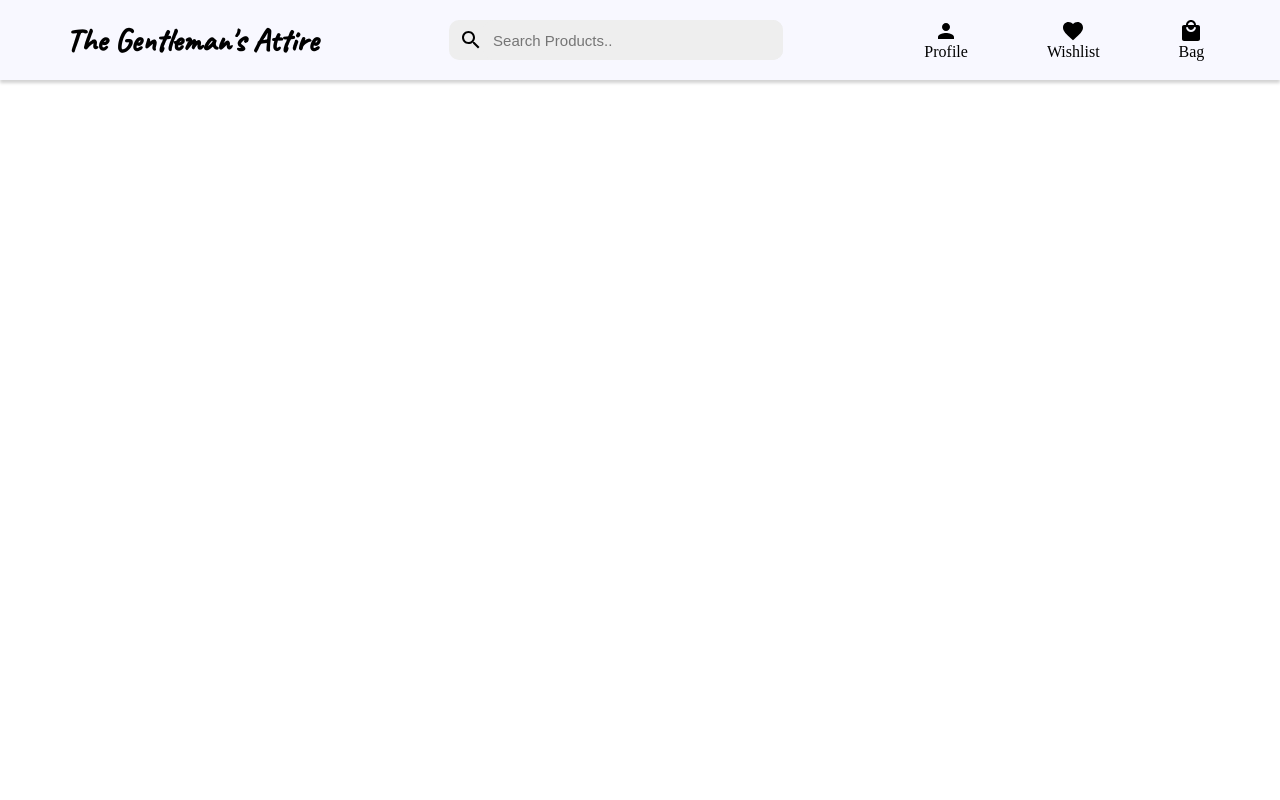
Test: Wishlist › If the user in logged out Wishlist login page is showing
Step 1. Click the link with test id "wishlistElement" → (1073,40), box [1047,19,1100,61]
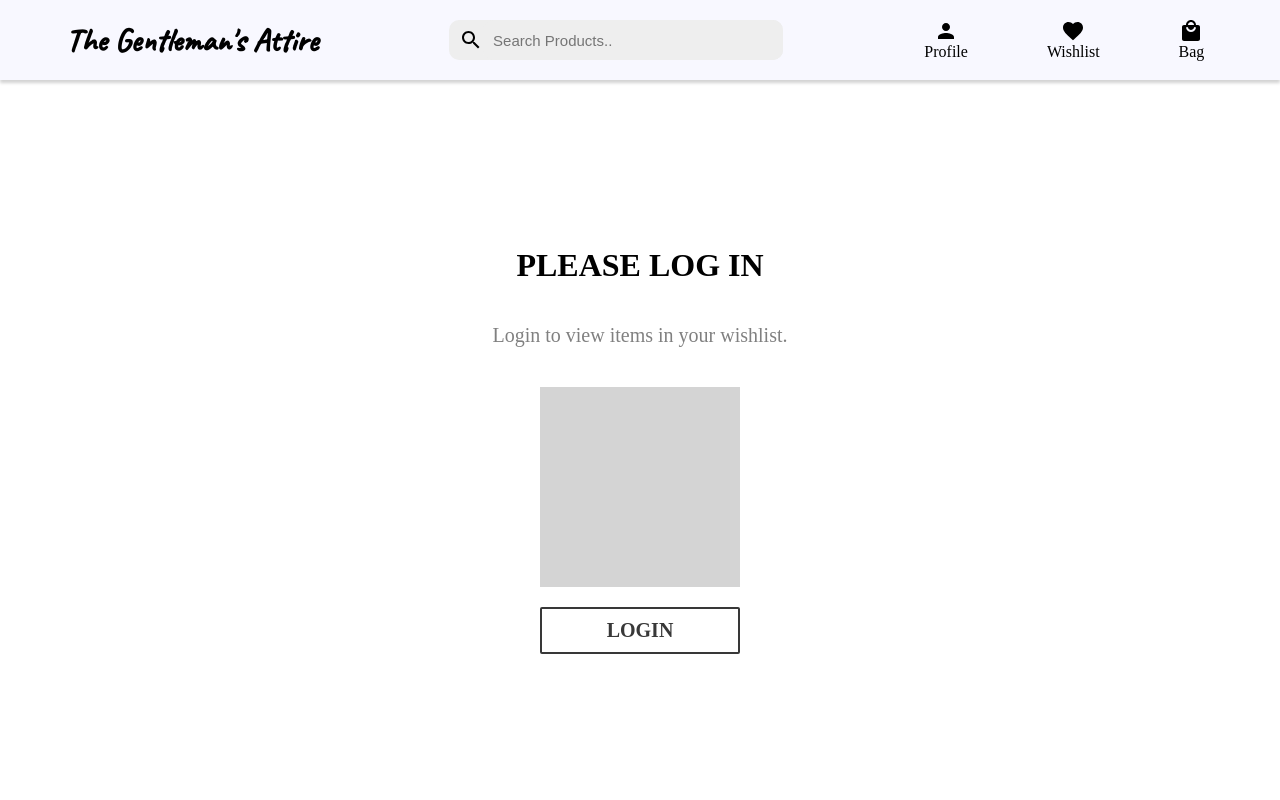
Check: the element with test id "logoutWishlistCartElement" is shown, box [492,246,788,654]
